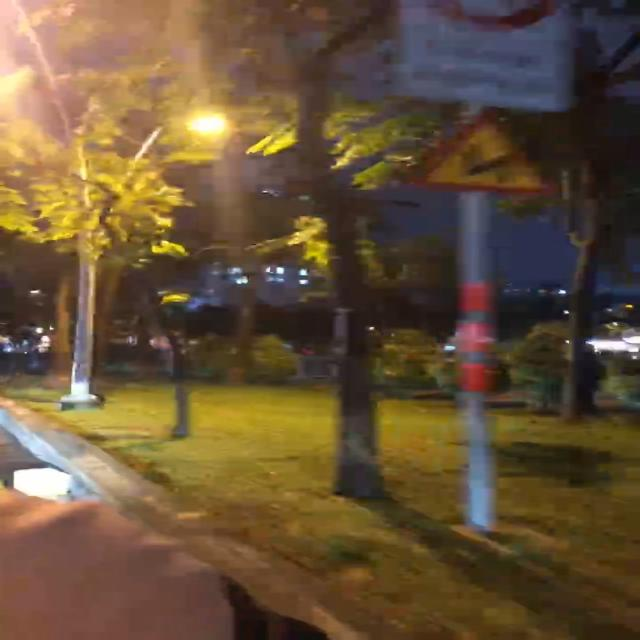Bien bao nhieu cho ngoat nguy hiem lien tiep: (397, 103, 563, 199)
